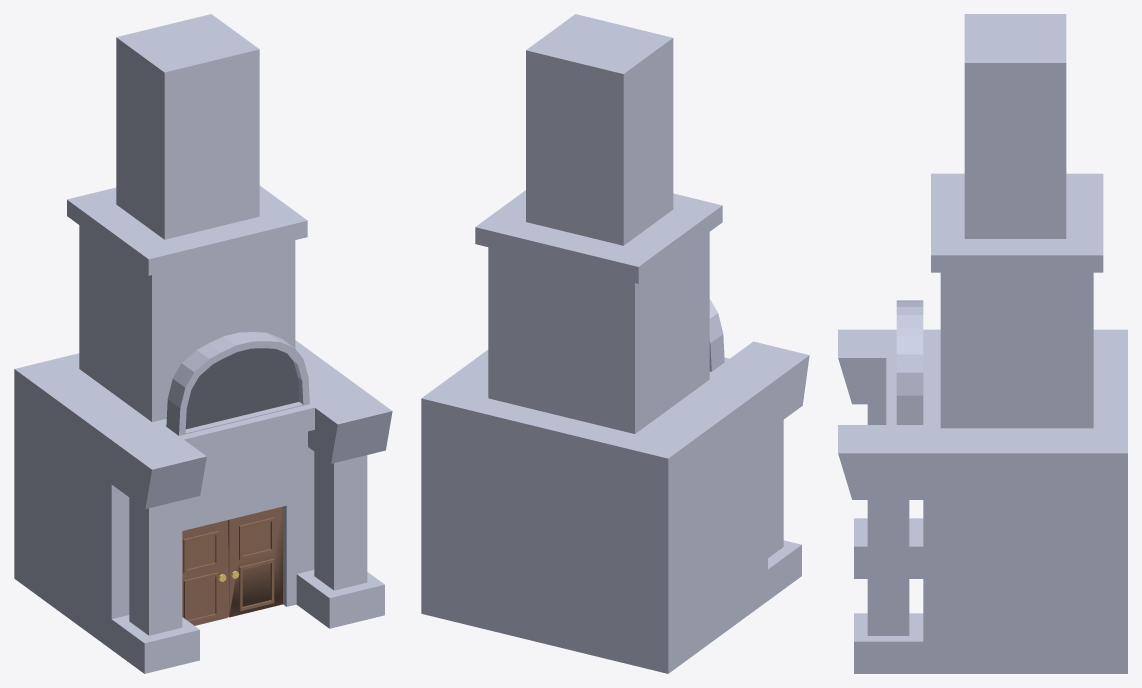
File: stage4_obj1.fbx
3 renders of one model, left to right at view 1: azimuth 30°, elevation 25°; view 2: azimuth 150°, elevation 25°; view 3: azimuth 270°, elevation 25°, orthographic. The views are drawn at different scales.
Parts seen in each view (by area): view 1: obj; view 2: obj; view 3: obj.
Part boxes in pixels (x1,y1,x2,y2): obj: [14, 14, 392, 673]; obj: [421, 14, 809, 673]; obj: [838, 14, 1127, 673].
Size of the model in its own units: 600 by 1300 by 595.
